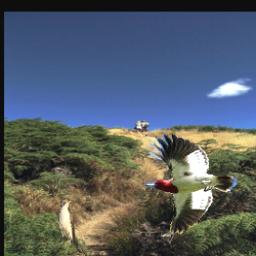Cuckoo: (58, 199, 88, 256)
Woodpecker: (144, 134, 237, 238)
